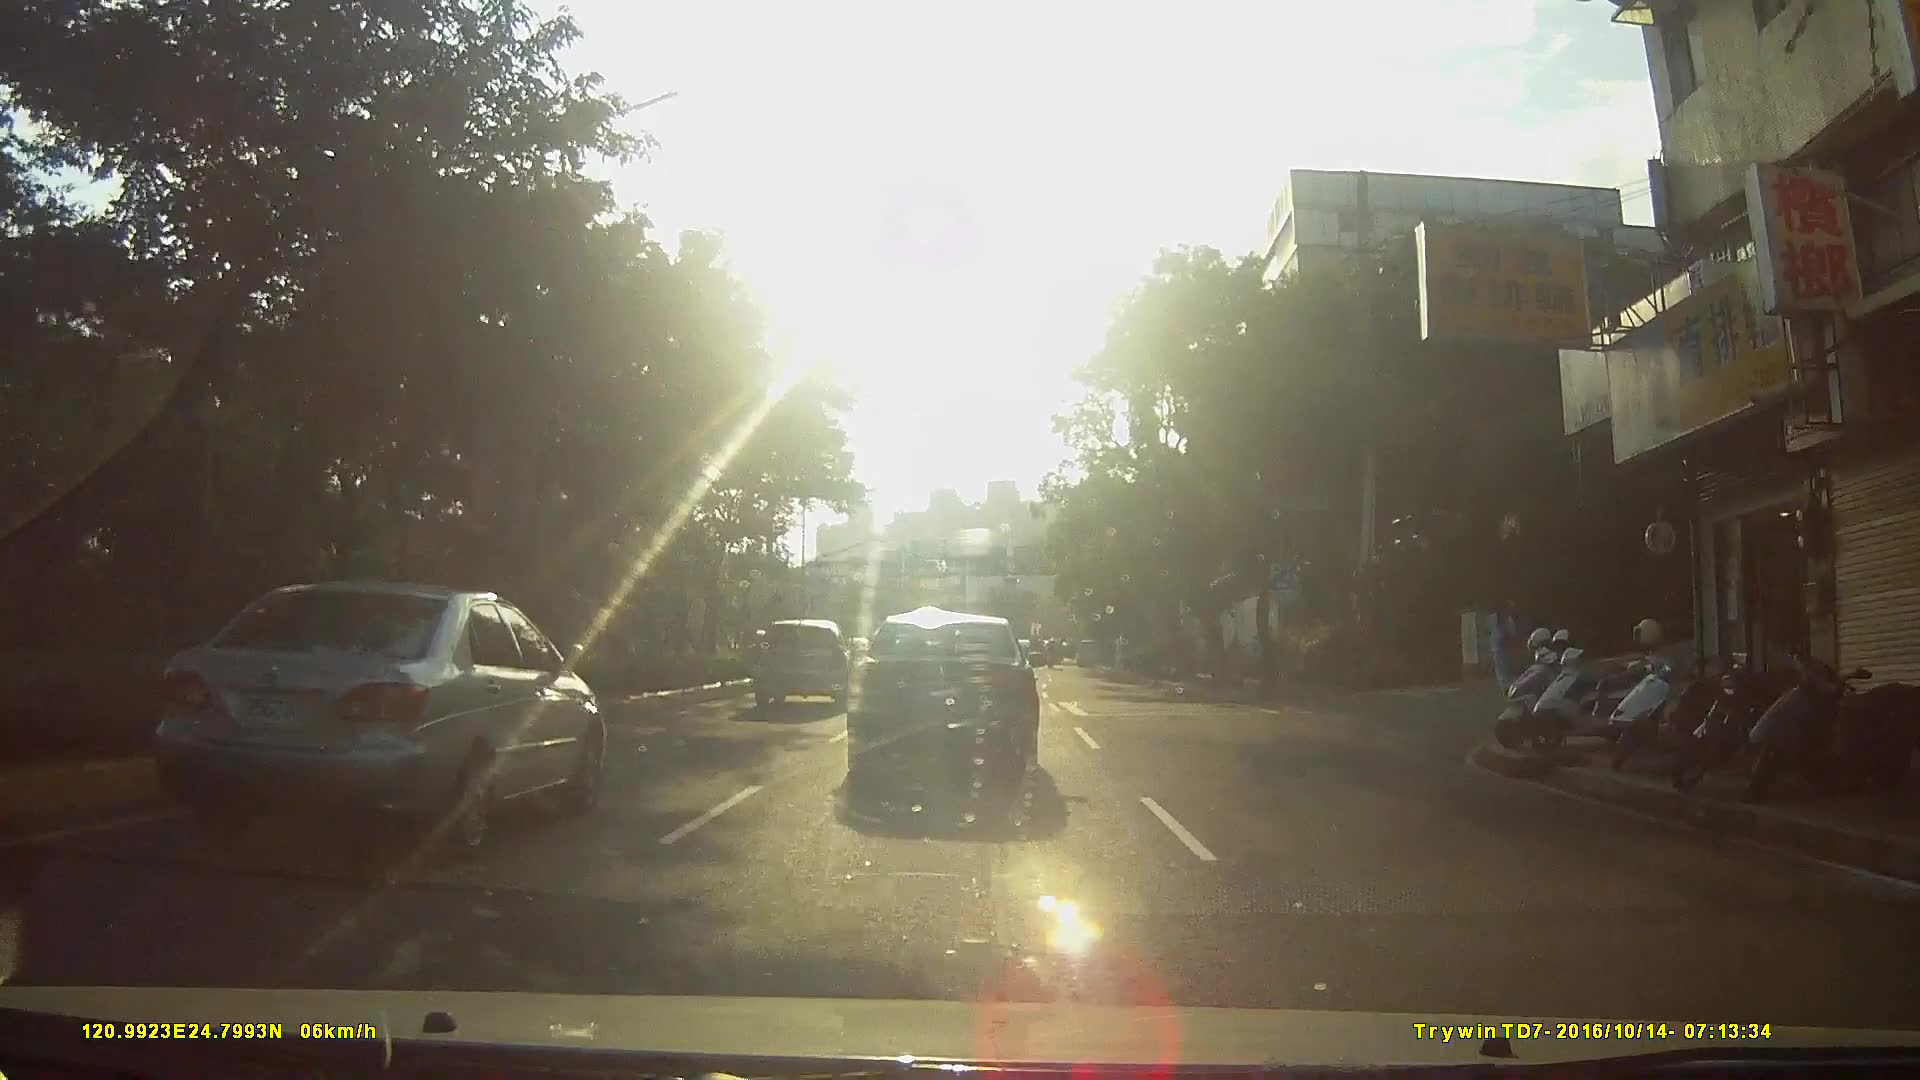pedestrian: (1486, 594, 1534, 699)
vehicle: (113, 580, 616, 869), (850, 612, 1061, 794), (752, 618, 860, 708), (1075, 637, 1107, 669)
